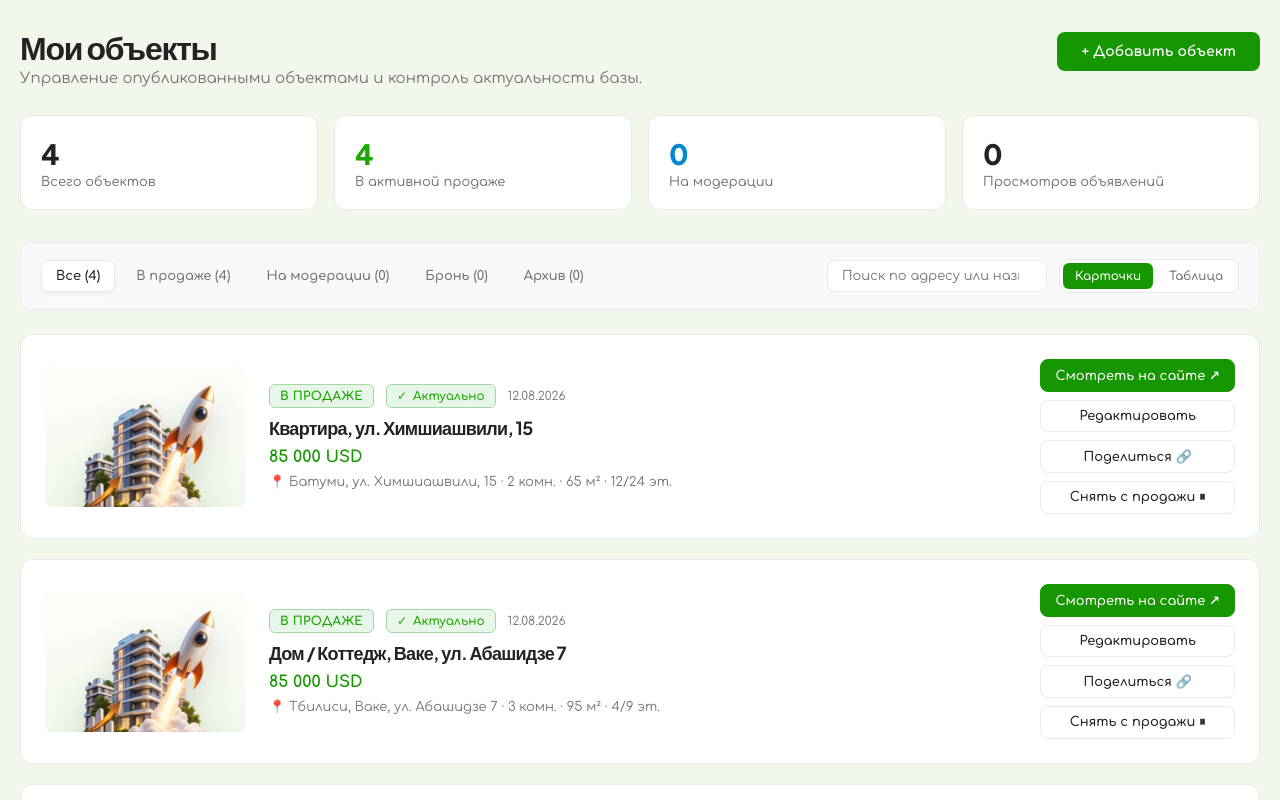
Test: MyProperties Page Acceptance (MKT-SCR-019) › ищет по адресу
expect the heading "Квартира, ул. Химшиашвили, 15" is shown: met, box top-left (269, 416), bottom-right (532, 439)
In the search field named "Поиск по моим объектам": (937, 276) top-left (827, 260), bottom-right (1047, 292), type "Ваке"
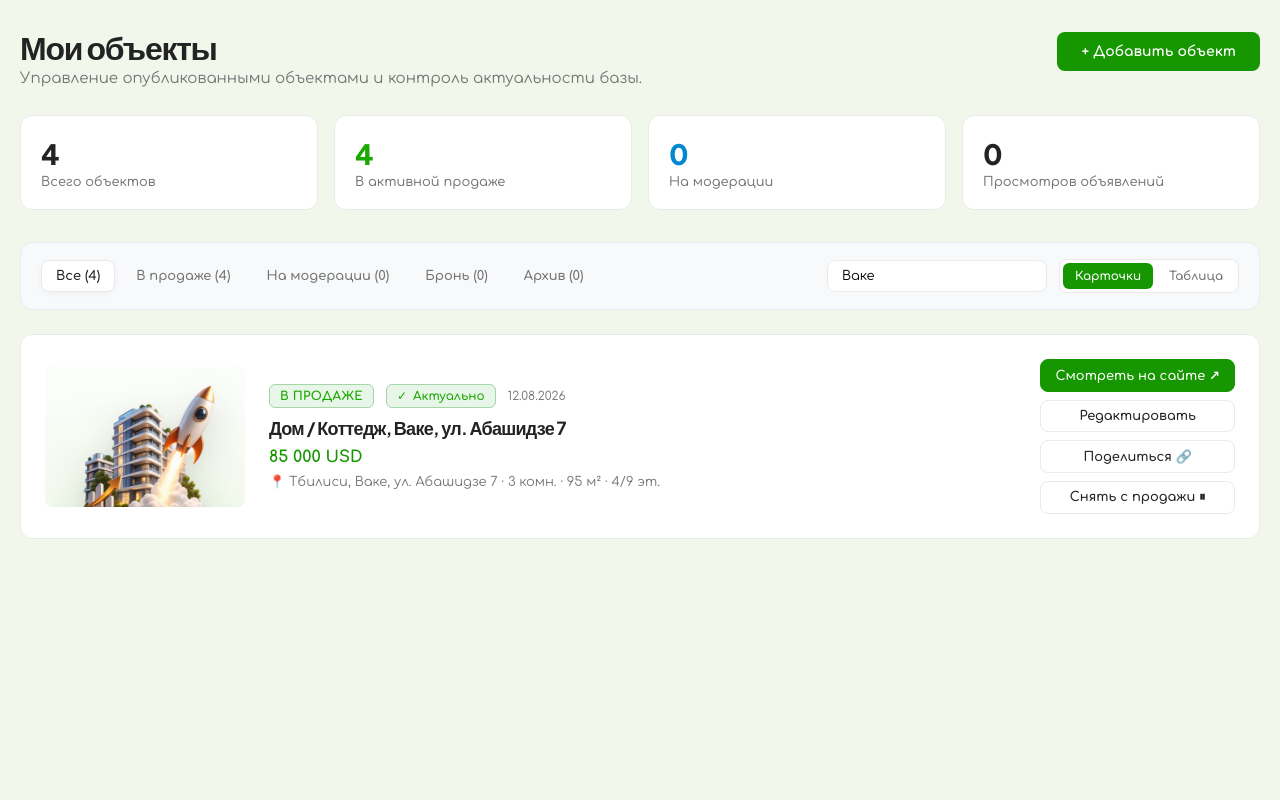
expect the heading "Дом / Коттедж, Ваке, ул. Абашидзе 7" is shown: met, box top-left (269, 416), bottom-right (566, 439)
expect the heading "Квартира, ул. Химшиашвили, 15" is gone: met
